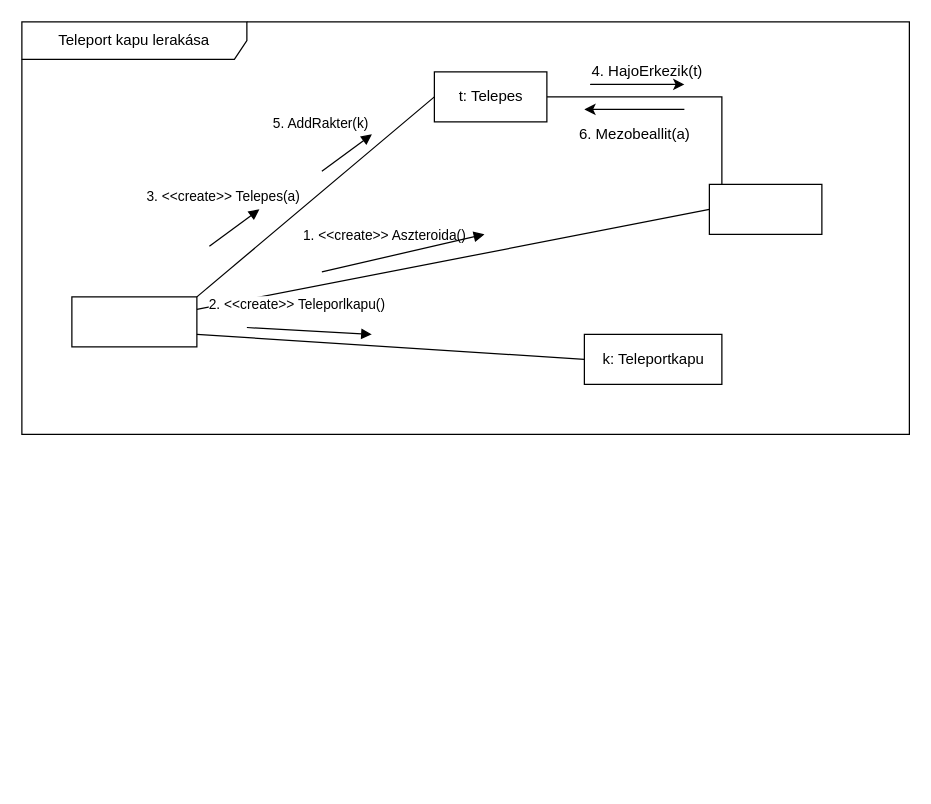
Image size: 931x804. Some labels were removed from this diagram. The shapes that lost their labels are listed below. From the top down, each one's centre as x and y in pixels, then its label:
At [765,208]: "a: Aszteroida".
At [134,321]: "SkeletonController".
